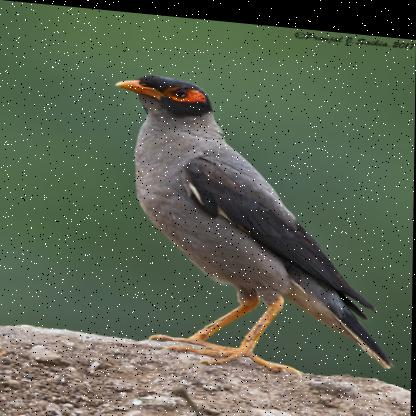Burung: (110, 68, 396, 377)
